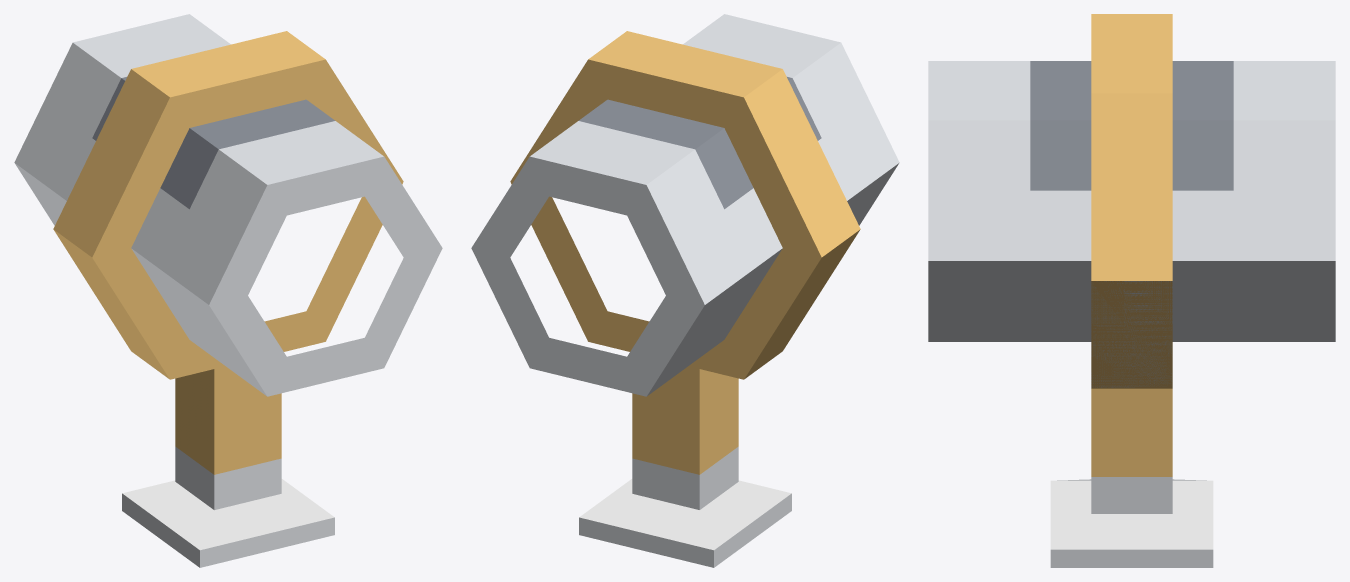
File: pipe_ringhigh_lev1.glb
3 views of the same model, side by side, from view 1: azimuth 30°, elevation 25°; view 2: azimuth 150°, elevation 25°; view 3: azimuth 270°, elevation 25° (orthographic). The views are drawn at different scales.
Parts seen in each view (by area): view 1: pipe_ringhigh_lev1; view 2: pipe_ringhigh_lev1; view 3: pipe_ringhigh_lev1.
Part boxes in pixels (left/top/right/bottom): pipe_ringhigh_lev1: left=14, top=14, right=442, bottom=567; pipe_ringhigh_lev1: left=471, top=14, right=899, bottom=567; pipe_ringhigh_lev1: left=928, top=14, right=1335, bottom=567.
Bounding box in the file's own units: 0.9238 × 1.3 × 1.
